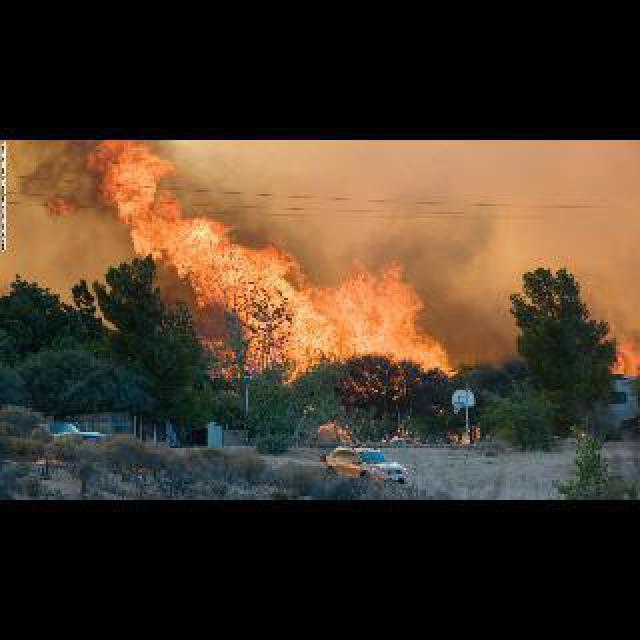Fire: (42, 140, 464, 380)
